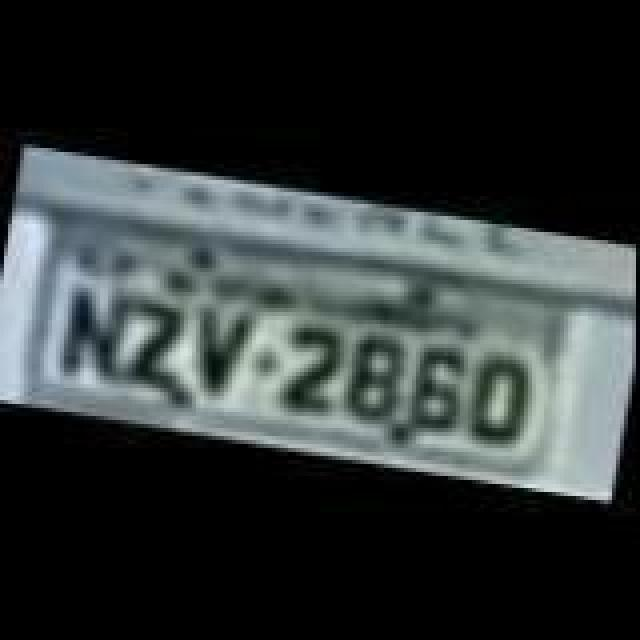2: (274, 324, 350, 416)
6: (402, 336, 470, 436)
8: (336, 328, 408, 428)
N: (56, 278, 128, 378)
O: (460, 348, 532, 448)
V: (180, 300, 260, 400)
Z: (118, 294, 194, 394)
